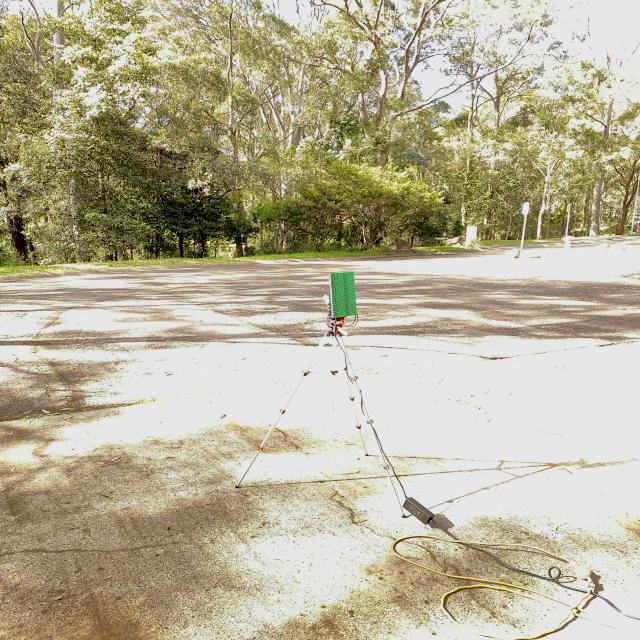matrix: (320, 263, 370, 327)
